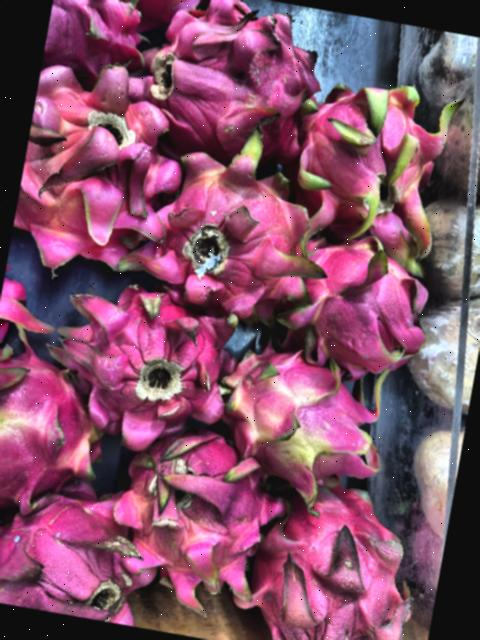buah-naga-belum-matang: (143, 118, 332, 330), (286, 66, 468, 248), (213, 334, 400, 506), (0, 341, 120, 520)
buah-naga-matang: (10, 48, 200, 292), (42, 264, 245, 448), (106, 422, 289, 610), (234, 475, 430, 640), (136, 0, 321, 157), (279, 226, 445, 378), (0, 477, 152, 625), (40, 0, 161, 85)
